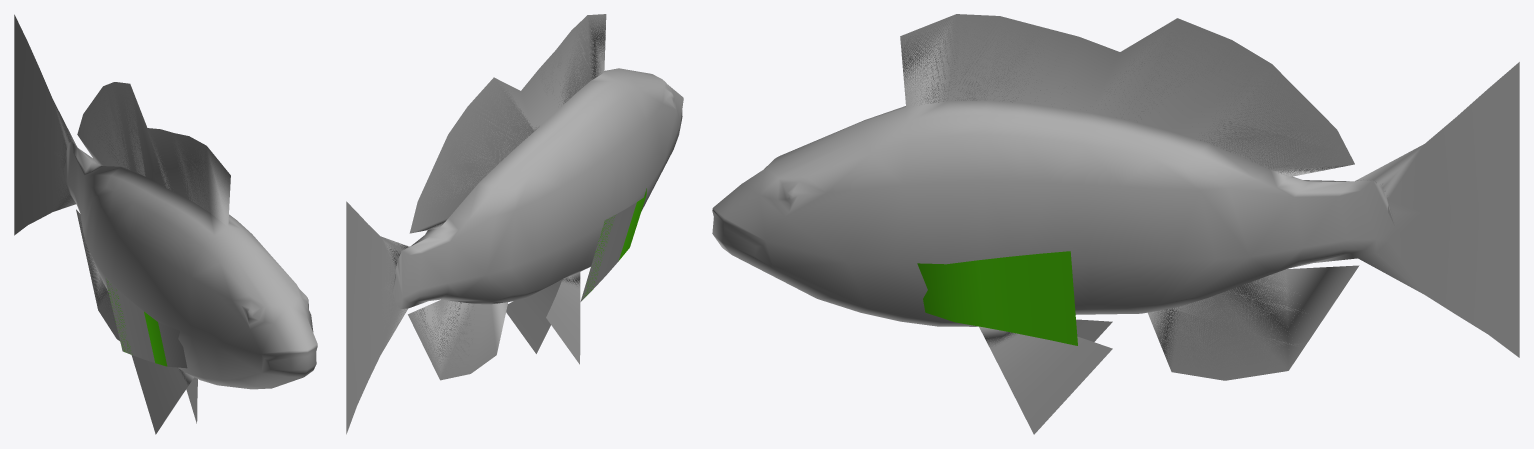
Rendered from Cirrhitidae_A_S.fbx.
The picture shows the model from 3 angles, left to right: view 1: azimuth 30°, elevation 25°; view 2: azimuth 150°, elevation 25°; view 3: azimuth 270°, elevation 25°; orthographic projection. The views are drawn at different scales.
Visible parts, largest first — view 1: Cirrhitidae_A_S_Mesh; view 2: Cirrhitidae_A_S_Mesh; view 3: Cirrhitidae_A_S_Mesh.
Boxes of the visible parts, bbox=[...] form: Cirrhitidae_A_S_Mesh: bbox=[14, 14, 317, 434]; Cirrhitidae_A_S_Mesh: bbox=[346, 14, 683, 434]; Cirrhitidae_A_S_Mesh: bbox=[712, 14, 1519, 434].
Bounding box in the file's own units: 0.00214 × 0.00533 × 0.00955.
